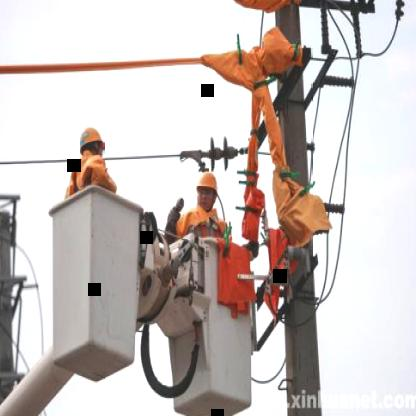helmet: (76, 123, 106, 168), (192, 168, 221, 214)
